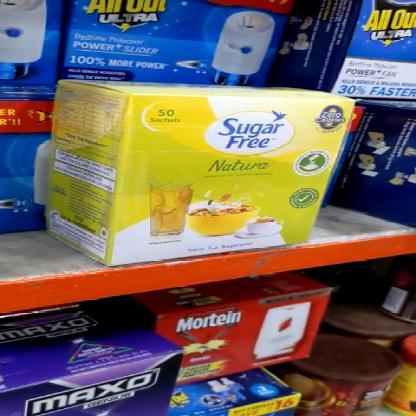SUGAR FREE NATURA SACHET 50: (118, 96, 355, 264)
